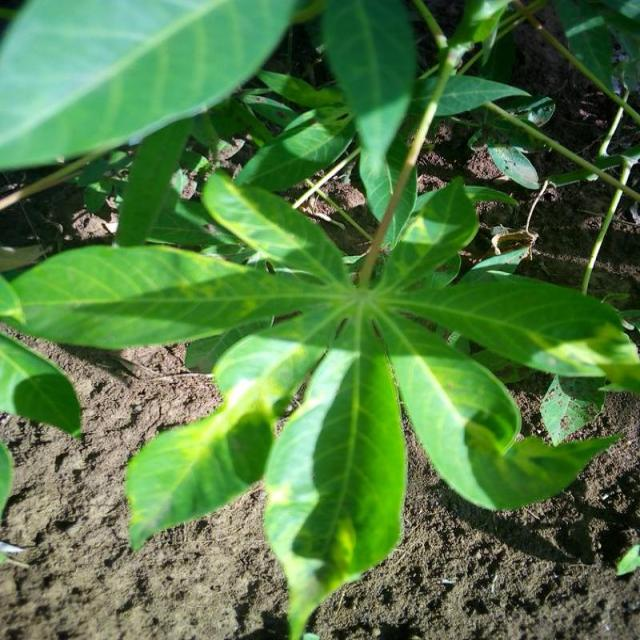cassava leaf: (2, 1, 638, 637), (1, 0, 298, 171)
